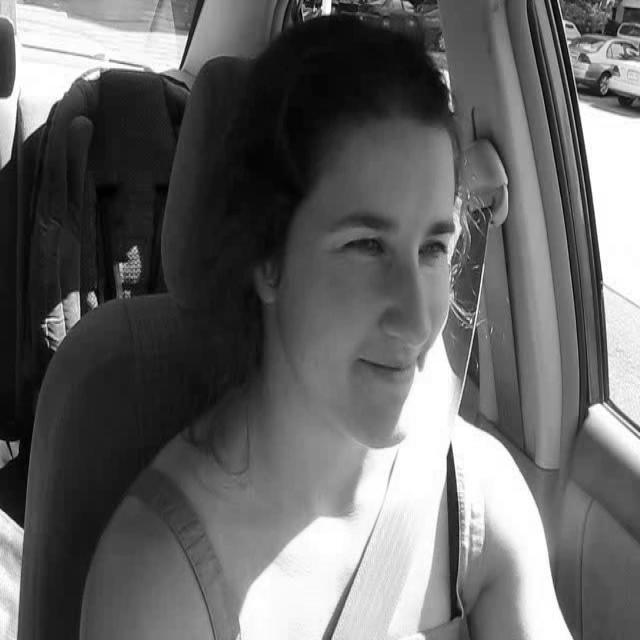no_yawn: (48, 9, 640, 640)
